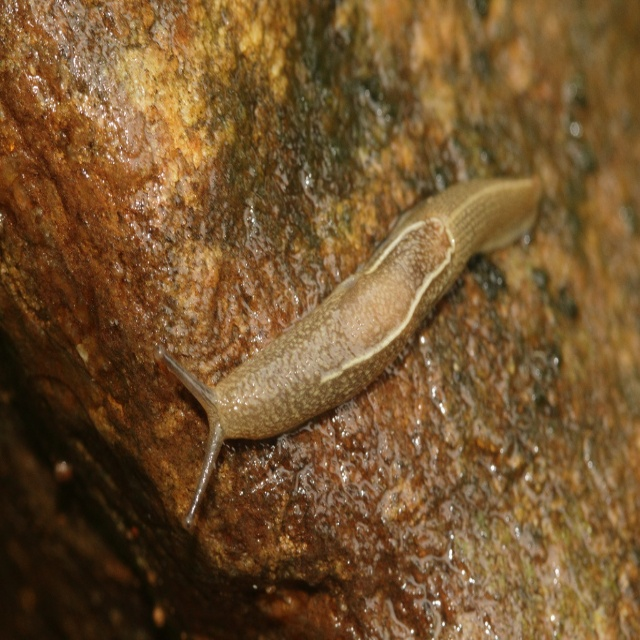Snail: (152, 177, 542, 532)
